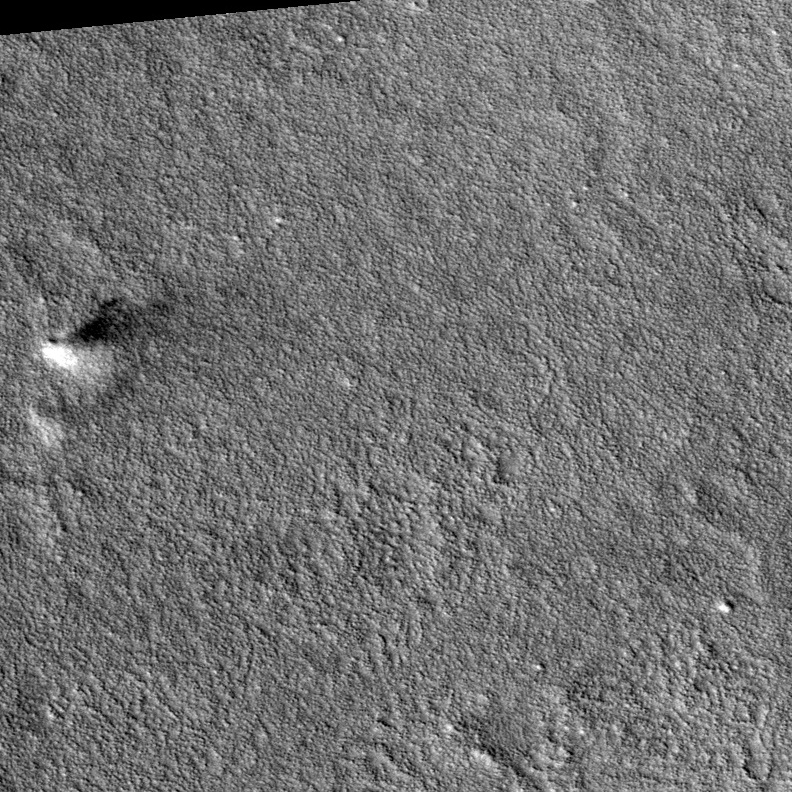dust_devil: (37, 295, 172, 373)
